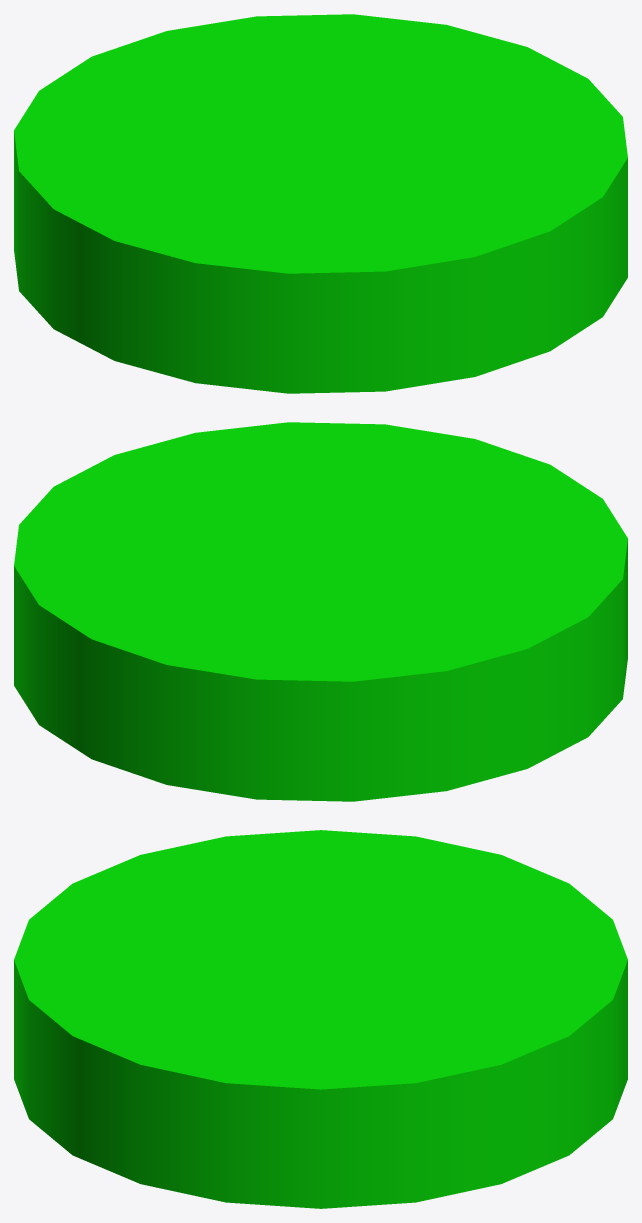
File: WitchHut_Poison.fbx
The picture shows the model from 3 angles, top to bottom: view 1: azimuth 30°, elevation 25°; view 2: azimuth 150°, elevation 25°; view 3: azimuth 270°, elevation 25°; orthographic projection.
Parts seen in each view (by area): view 1: polySurface798; view 2: polySurface798; view 3: polySurface798.
Boxes of the visible parts, x1=… form: polySurface798: x1=14, y1=14, x2=627, y2=393; polySurface798: x1=14, y1=422, x2=627, y2=801; polySurface798: x1=14, y1=830, x2=627, y2=1208.
Size of the model in its own units: 0.2322 by 0.0498 by 0.2322.
